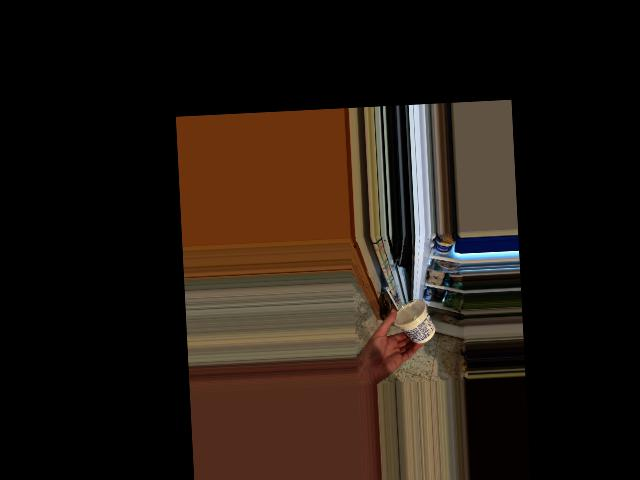cotage: (395, 297, 433, 341)
